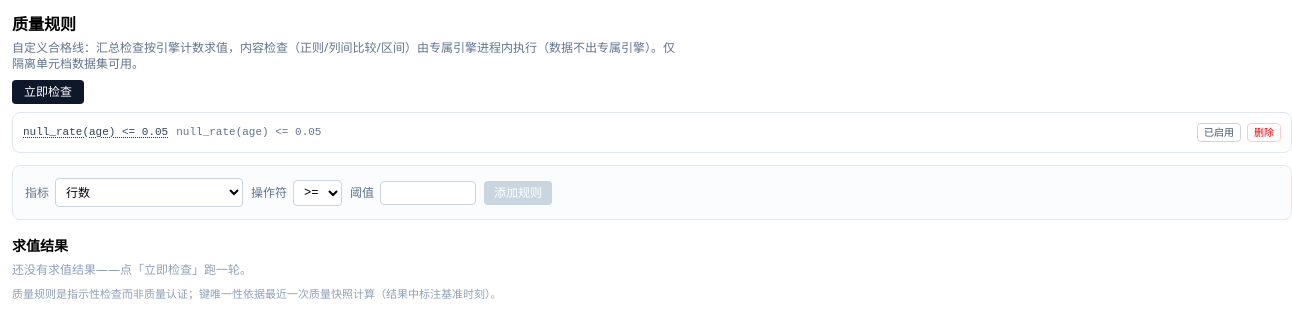
Test: DatasetQualityRulesSection 运行与启停/改名（wire-quality-rules） › 行内改名：save → PATCH {name} 生效；cancel 不发请求
Expected: the list item with test id "quality-rule-item-r1" is shown, [12,112,1291,153]
Note: cancel：退出编辑、零 PATCH
Step 1. Click the button with test id "quality-rule-rename-r1" → {"x": 96, "y": 133}, box [23,125,168,140]
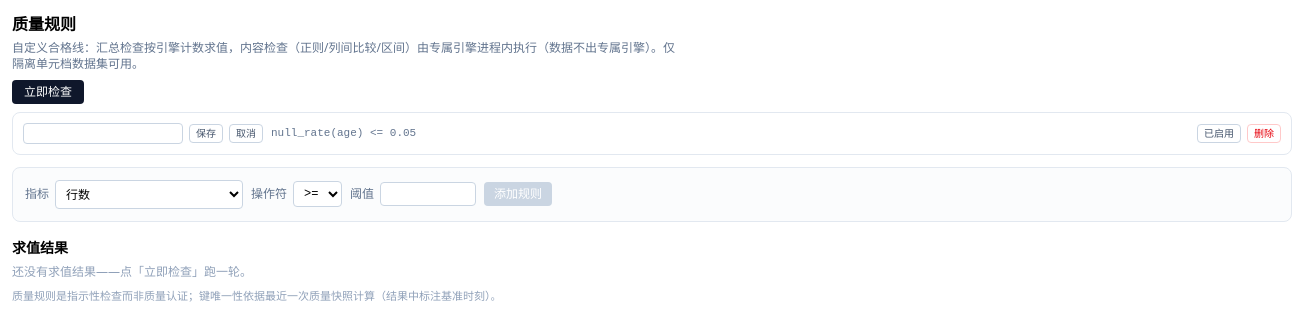
Step 2. Type "年龄空值率" into the field with test id "quality-rule-name-input" → {"x": 103, "y": 133}, box [23,123,183,144]
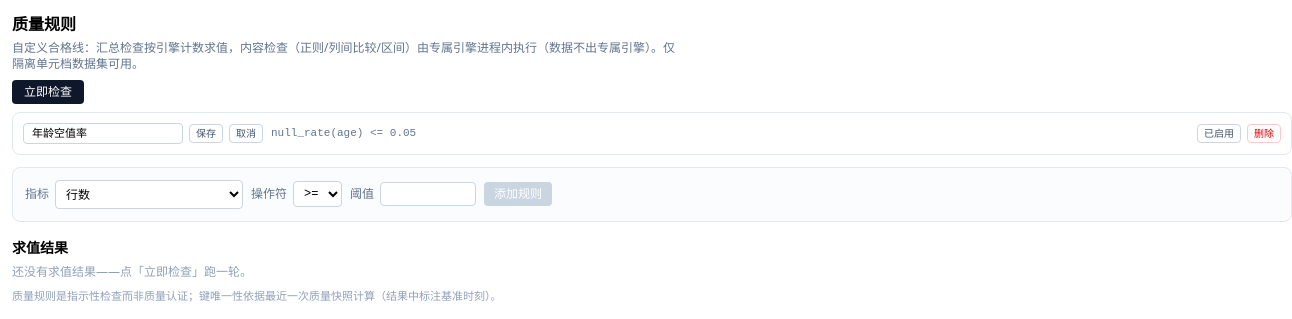
Step 3. Click the button with test id "quality-rule-name-cancel" → {"x": 246, "y": 133}, box [229,124,263,143]
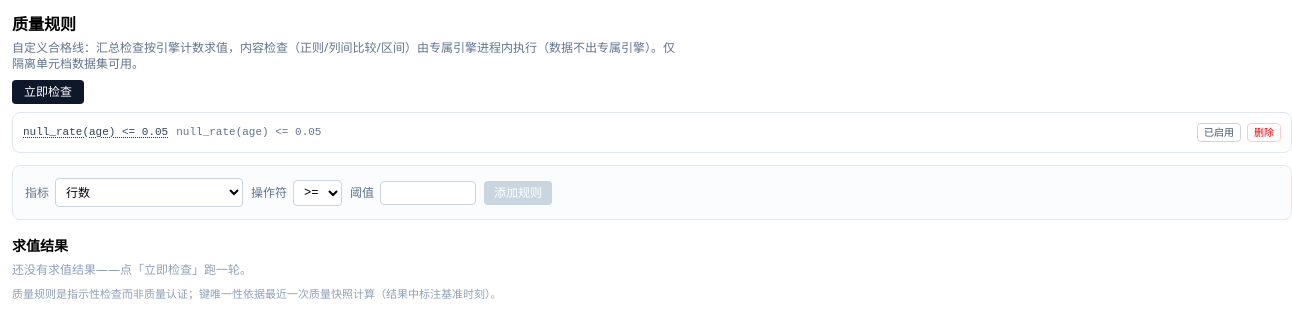
Now the field with test id "quality-rule-name-input" is gone
Step 4. Click the button with test id "quality-rule-rename-r1" → {"x": 96, "y": 133}, box [23,125,168,140]
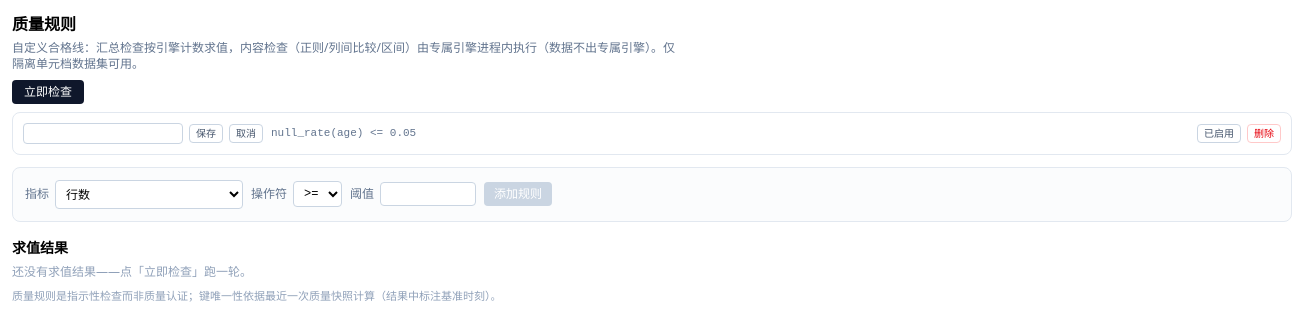
Step 5. Type "年龄空值率" into the field with test id "quality-rule-name-input" → {"x": 103, "y": 133}, box [23,123,183,144]
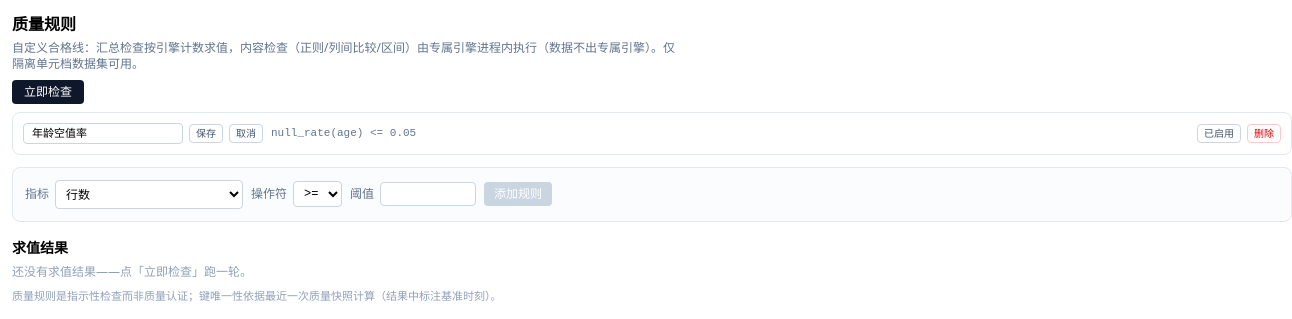
Step 6. Click the button with test id "quality-rule-name-save" → {"x": 206, "y": 133}, box [189,124,223,143]
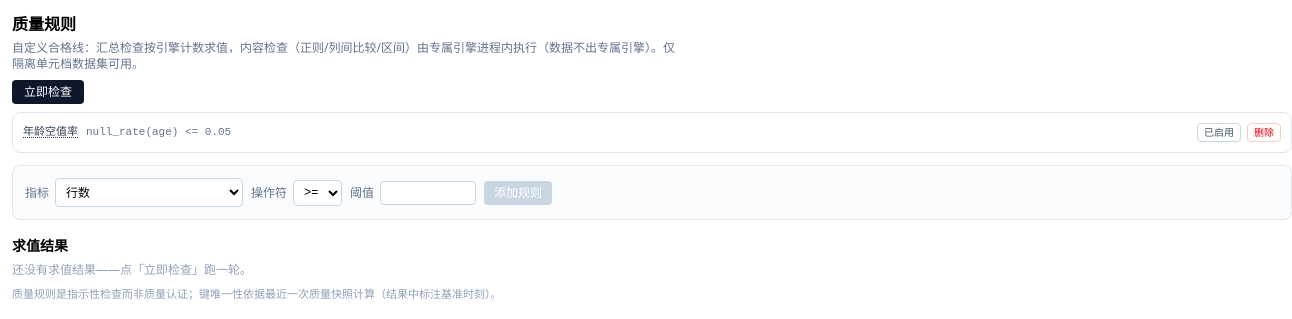
Expected: the list item with test id "quality-rule-item-r1" shows "null_rate(age) <= 0.05", [86,126,231,138]
Now the list item with test id "quality-rule-item-r1" shows "年龄空值率", box [23,125,78,140]
